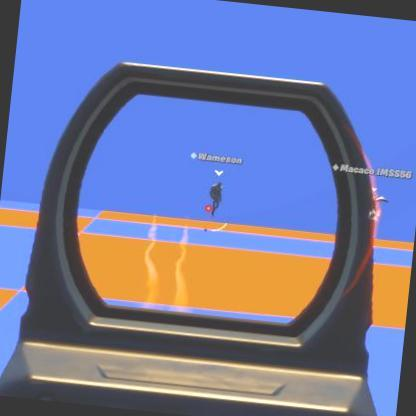person: (207, 180, 225, 217)
